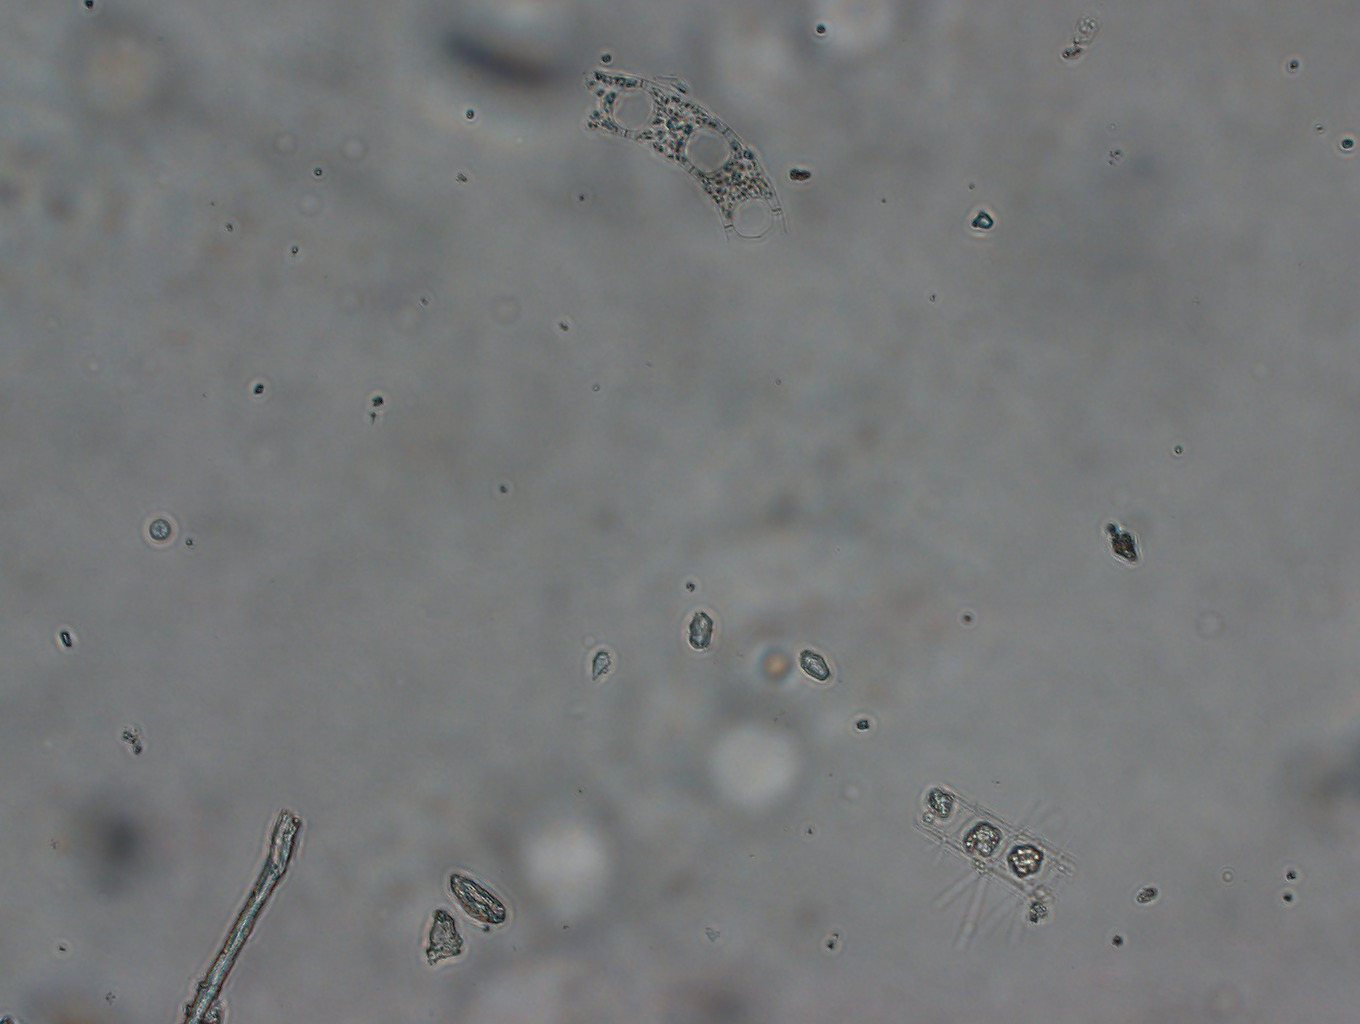chaetoceros: (894, 776, 1090, 959)
eucampia: (575, 53, 790, 278)
